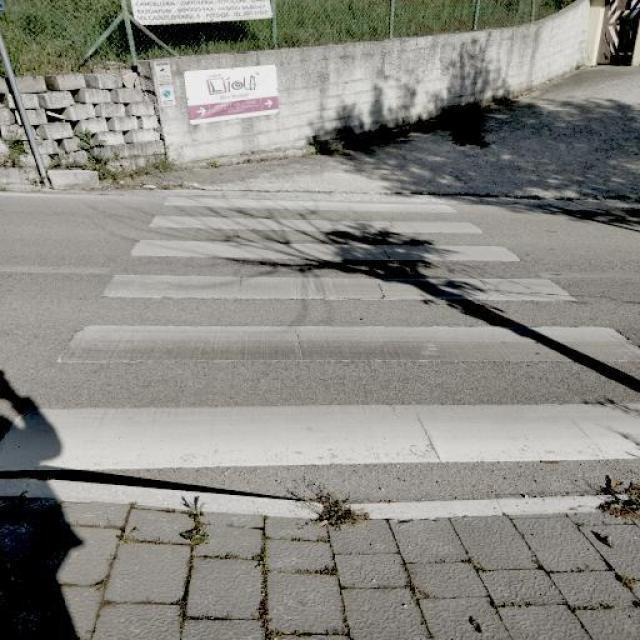crosswalk: (0, 193, 640, 470)
